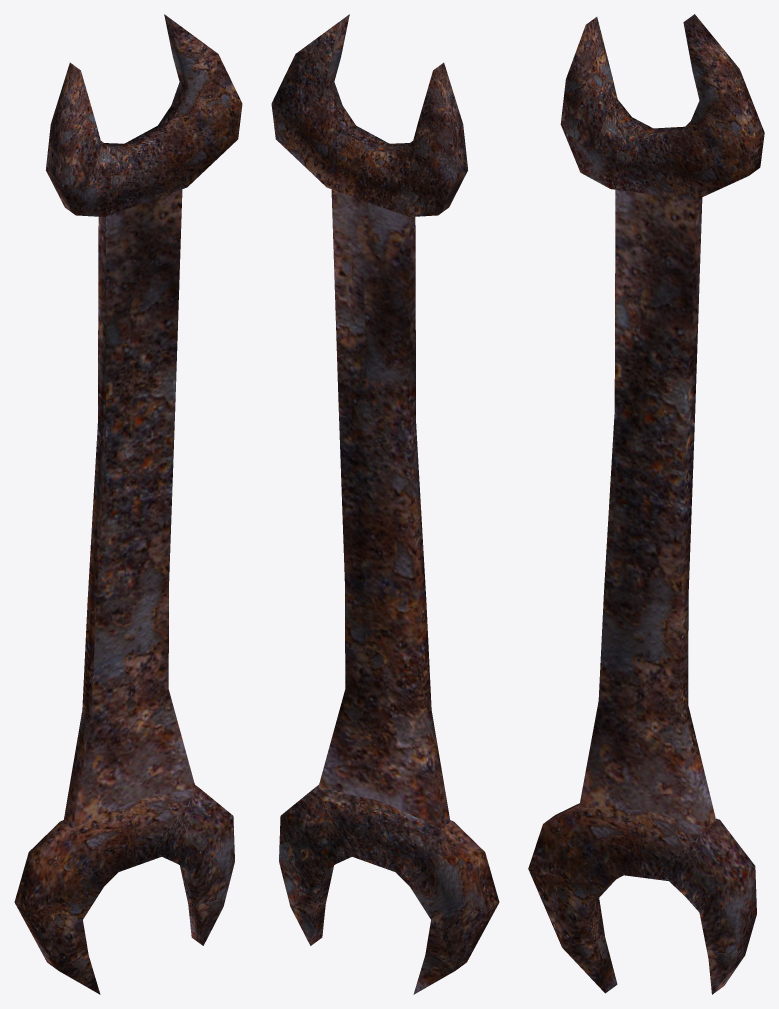
Rendered from tools_4_0.fbx.
3 views of the same model, side by side, from view 1: azimuth 30°, elevation 25°; view 2: azimuth 150°, elevation 25°; view 3: azimuth 330°, elevation 25° (orthographic). The views are drawn at different scales.
Parts seen in each view (by area): view 1: tools_4; view 2: tools_4; view 3: tools_4.
Part boxes in pixels (x1,y1,x2,y2): tools_4: [14, 14, 242, 994]; tools_4: [271, 14, 499, 994]; tools_4: [528, 14, 764, 994].
Bounding box in the file's own units: 14.87 × 62.6 × 1.4.
Materials: 1 (1 with a texture image).
